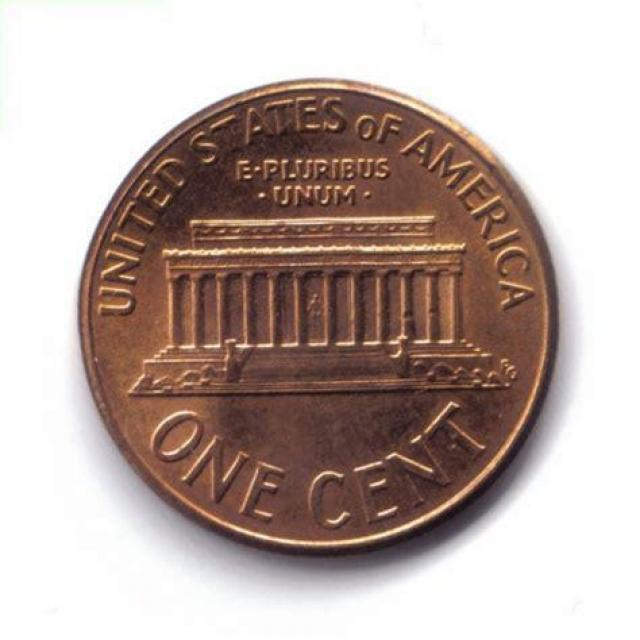Penny: (8, 6, 639, 638)
